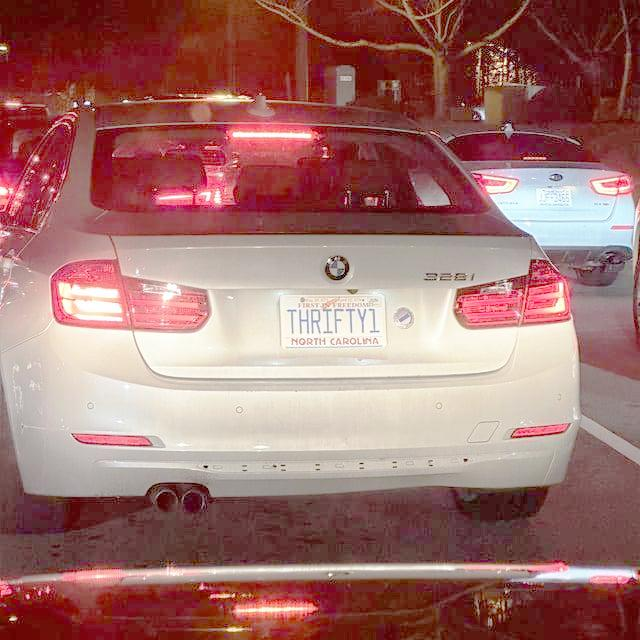license_plate: (280, 294, 388, 349)
